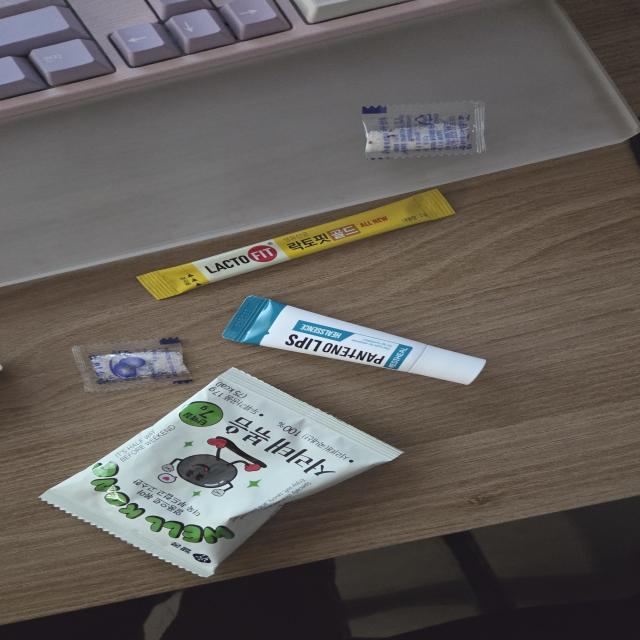lacto: (132, 185, 457, 301)
lib: (220, 294, 490, 386)
salt: (358, 99, 486, 161), (66, 335, 199, 393)
